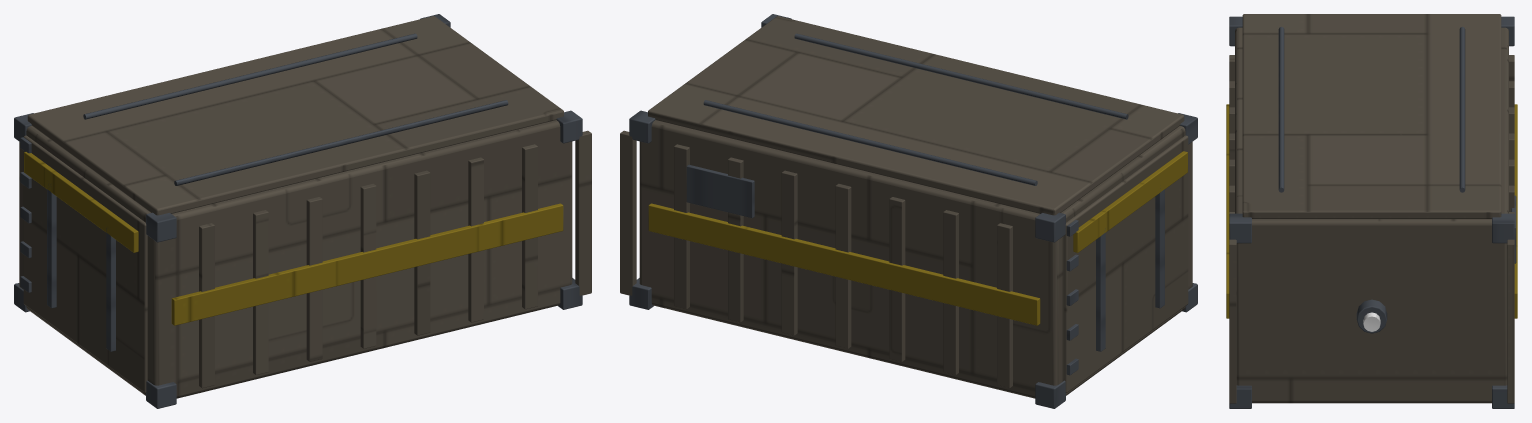
Rendered from pod_cargo_container.glb.
3 renders of one model, left to right at view 1: azimuth 30°, elevation 25°; view 2: azimuth 150°, elevation 25°; view 3: azimuth 270°, elevation 25°, orthographic.
Parts seen in each view (by area): view 1: LOD0_Hull, LOD0_Livery, LOD0_Mechanical; view 2: LOD0_Hull, LOD0_Livery, LOD0_Mechanical; view 3: LOD0_Hull, LOD0_Mechanical, LOD0_Livery, LOD0_MechanicalDark.
Boxes of the visible parts, x1,y1,x2,y2 form: LOD0_Hull: (19, 16, 591, 398); LOD0_Livery: (24, 152, 563, 325); LOD0_Mechanical: (14, 14, 582, 408); LOD0_Hull: (620, 16, 1192, 398); LOD0_Livery: (648, 151, 1187, 325); LOD0_Mechanical: (629, 14, 1197, 408); LOD0_Hull: (1229, 14, 1514, 403); LOD0_Mechanical: (1229, 16, 1516, 408); LOD0_Livery: (1226, 104, 1517, 318); LOD0_MechanicalDark: (1363, 312, 1380, 331).
Size of what is drawn, in the model's own units: 5.42 by 2.29 by 3.06.
Materials: 4 (4 with a texture image).
